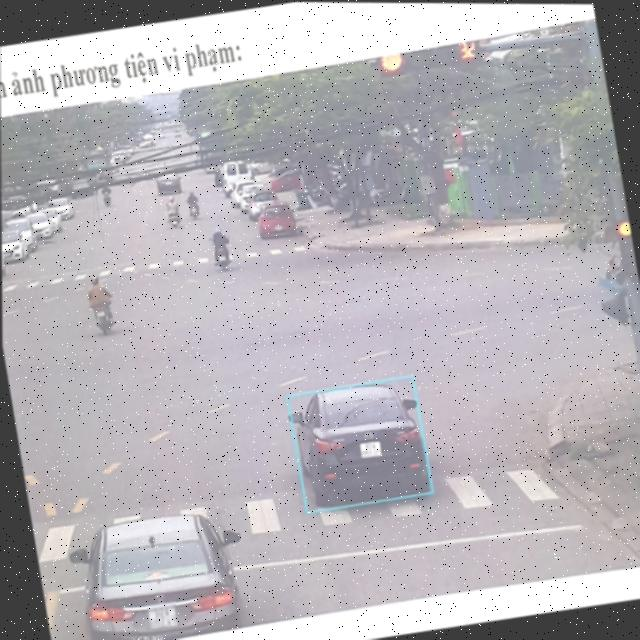Red: (381, 41, 481, 80), (613, 215, 638, 273)
